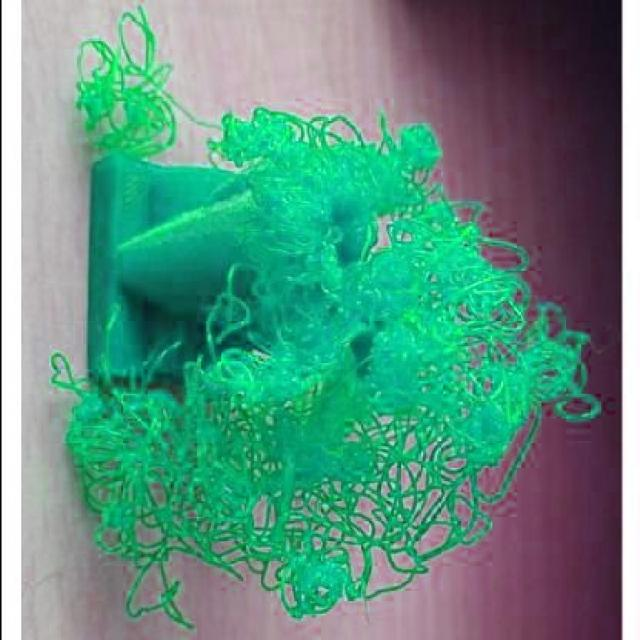Spaghetti: (45, 106, 607, 640), (61, 1, 182, 113)
